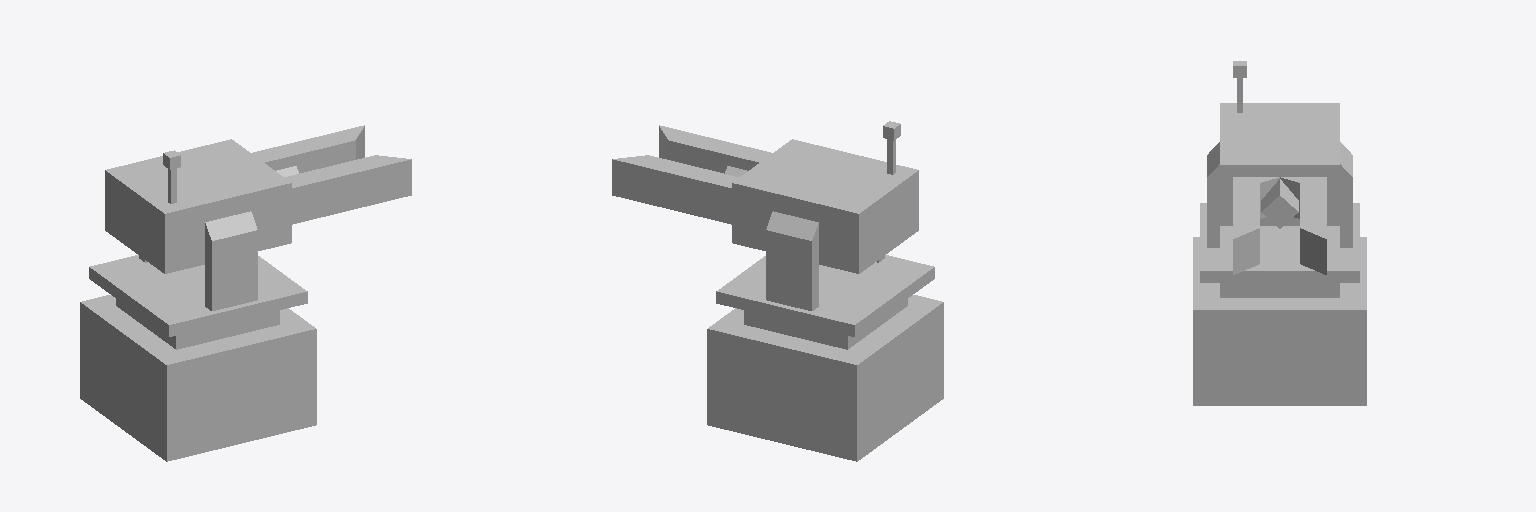
Rendered from missile_turret.obj.
3 views of the same model, side by side, from view 1: azimuth 30°, elevation 25°; view 2: azimuth 150°, elevation 25°; view 3: azimuth 270°, elevation 25° (orthographic).
Parts seen in each view (by area): view 1: Base_Cube_1, Head_Cube_6, Base_3_Cube_3, Bar_2_Cube_10, Claw_1_Cube_4, Bar_1_Cube_9, Base_2_Cube_2; view 2: Base_Cube_1, Head_Cube_6, Base_3_Cube_3, Bar_1_Cube_9, Claw_2_Cube_5, Bar_2_Cube_10, Base_2_Cube_2; view 3: Base_Cube_1, Head_Cube_6, Base_3_Cube_3, Bar_1_Cube_9, Bar_2_Cube_10, Base_2_Cube_2, Claw_2_Cube_5, Claw_1_Cube_4, Barrel_Cube_12, Holder_Cube_11.
Boxes of the visible parts, box(x1,y1,x2,y2) form: Base_Cube_1: box(80, 295, 316, 461); Head_Cube_6: box(105, 139, 291, 273); Base_3_Cube_3: box(89, 255, 307, 336); Bar_2_Cube_10: box(284, 155, 411, 224); Claw_1_Cube_4: box(205, 211, 257, 310); Bar_1_Cube_9: box(251, 125, 364, 173); Base_2_Cube_2: box(116, 299, 279, 349); Base_Cube_1: box(707, 295, 943, 461); Head_Cube_6: box(732, 139, 918, 273); Base_3_Cube_3: box(716, 255, 934, 336); Bar_1_Cube_9: box(612, 155, 739, 224); Claw_2_Cube_5: box(766, 211, 818, 310); Bar_2_Cube_10: box(659, 125, 772, 173); Base_2_Cube_2: box(744, 299, 907, 349); Base_Cube_1: box(1193, 237, 1366, 405); Head_Cube_6: box(1220, 103, 1339, 225); Base_3_Cube_3: box(1200, 203, 1359, 282); Bar_1_Cube_9: box(1300, 177, 1326, 274); Bar_2_Cube_10: box(1233, 177, 1259, 274); Base_2_Cube_2: box(1220, 283, 1339, 297); Claw_2_Cube_5: box(1340, 142, 1352, 247); Claw_1_Cube_4: box(1207, 142, 1219, 247); Barrel_Cube_12: box(1261, 179, 1298, 228); Holder_Cube_11: box(1260, 177, 1299, 218).
Size of the model in its own units: 2.3 by 2.35 by 1.3.